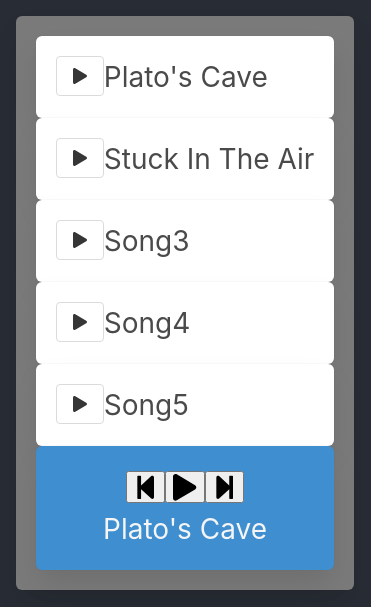
Scenario: The musicPlayer app › plays the previous song (looped to end) when Previous clicked
Step 1. Click the 6th button → (146, 487), box [126,471,165,503]
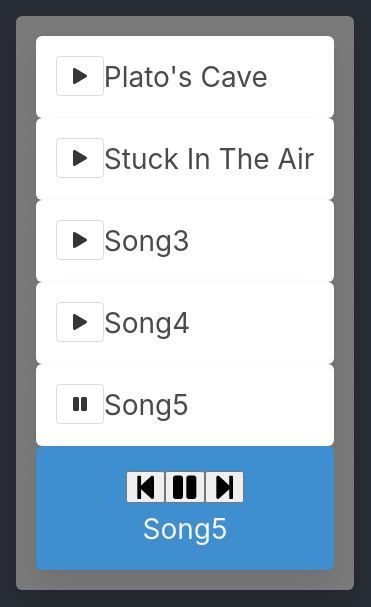
Now the heading with id "MusicLabel" reads "Song5", box [142,512,228,546]
